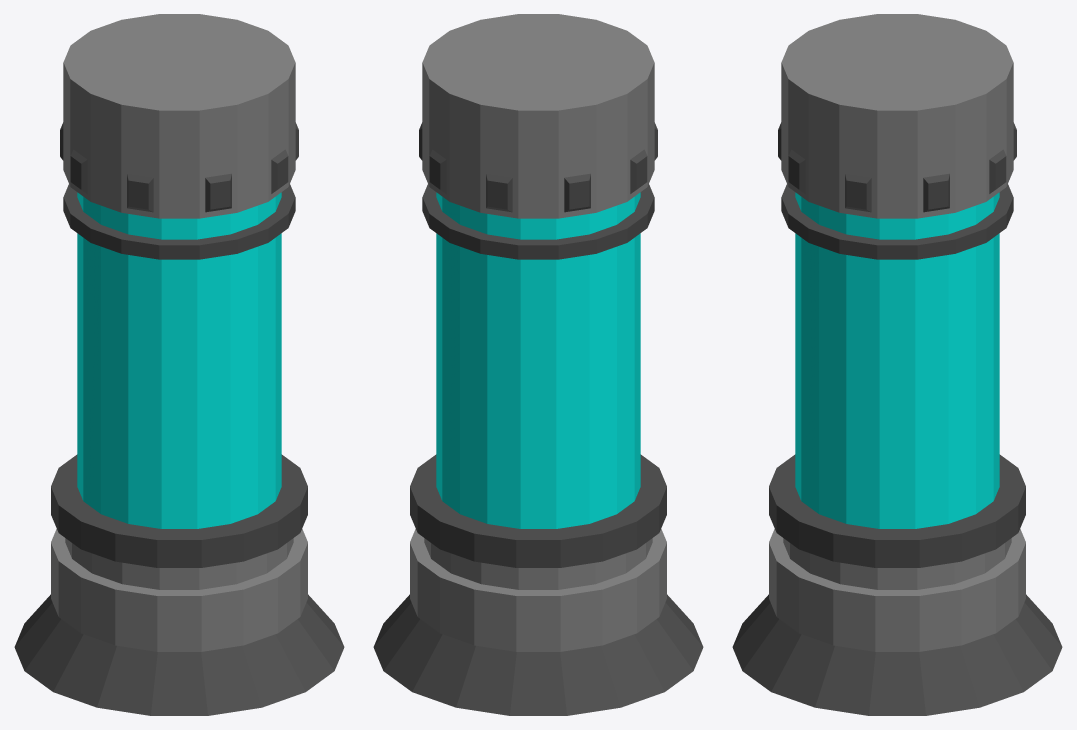
The model's file is cabinet.fbx.
3 views of the same model, side by side, from view 1: azimuth 30°, elevation 25°; view 2: azimuth 150°, elevation 25°; view 3: azimuth 270°, elevation 25° (orthographic).
Parts seen in each view (by area): view 1: Cylinder.004, Cylinder.001; view 2: Cylinder.004, Cylinder.001; view 3: Cylinder.004, Cylinder.001.
Part boxes in pixels (<box>): Cylinder.004: <box>14,14,344,715</box>; Cylinder.001: <box>77,192,281,528</box>; Cylinder.004: <box>373,14,703,715</box>; Cylinder.001: <box>436,192,640,528</box>; Cylinder.004: <box>732,14,1062,715</box>; Cylinder.001: <box>795,192,999,528</box>.
Bounding box in the file's own units: 253 × 502 × 257.
